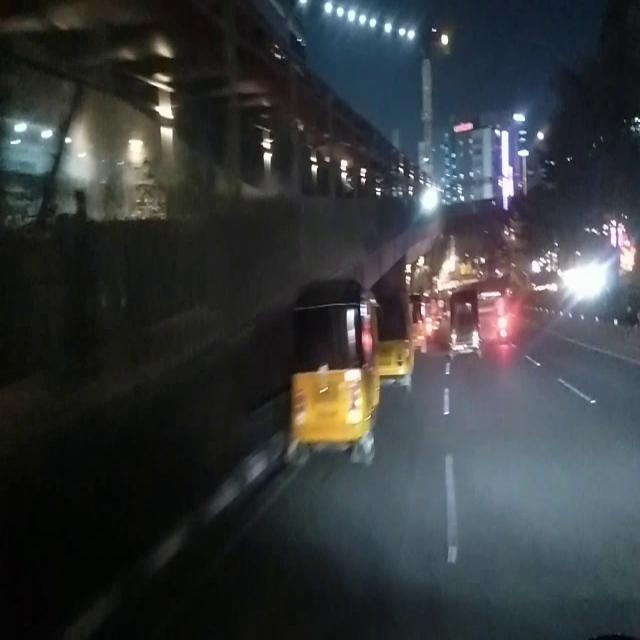auto: (290, 284, 384, 472), (382, 276, 418, 394)
road: (383, 351, 640, 640), (216, 469, 384, 640)
